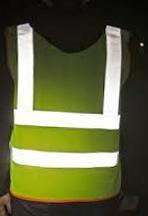Vest: (7, 24, 128, 194)
